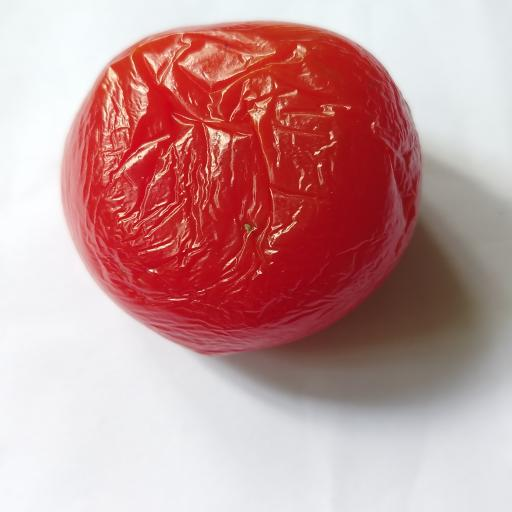spoiled: (62, 22, 421, 354)
